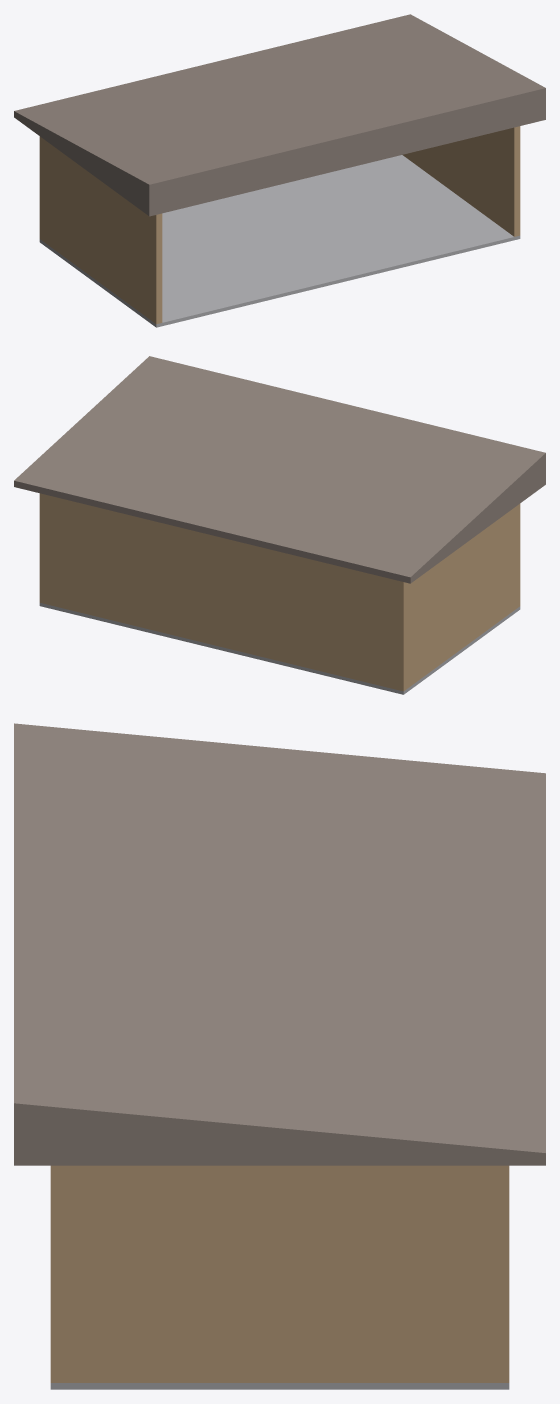
The model's file is cart_barn.glb.
The picture shows the model from 3 angles, top to bottom: view 1: azimuth 30°, elevation 25°; view 2: azimuth 150°, elevation 25°; view 3: azimuth 270°, elevation 25°; orthographic projection. The views are drawn at different scales.
Parts seen in each view (by area): view 1: CartBarn; view 2: CartBarn; view 3: CartBarn.
Part boxes in pixels (<box>): CartBarn: <box>14,14,545,327</box>; CartBarn: <box>14,356,545,694</box>; CartBarn: <box>14,723,545,1389</box>.
Bounding box in the file's own units: 9.8 × 3.63 × 5.8.
